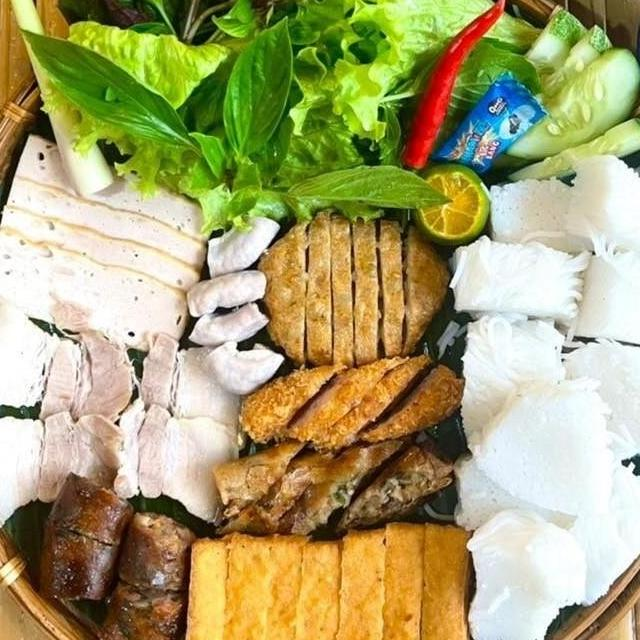bun: (440, 146, 640, 640)
bun dau: (0, 0, 640, 640)
cha com: (250, 199, 458, 376), (232, 352, 472, 449)
cha gio: (203, 431, 477, 552)
dau hu: (165, 513, 488, 640)
doi sun: (28, 467, 138, 609), (84, 506, 200, 640)
thit heo: (0, 287, 145, 433), (104, 392, 243, 528), (0, 406, 143, 535), (128, 327, 248, 438)
